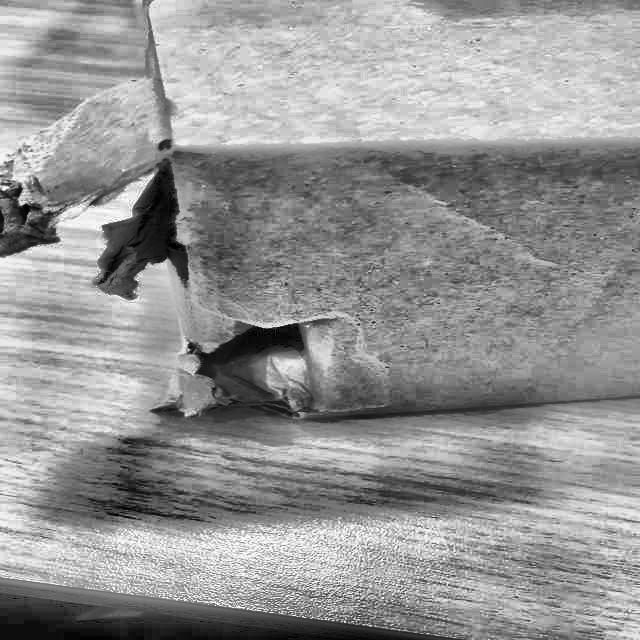box: (0, 0, 639, 430)
hole: (115, 134, 325, 426)
